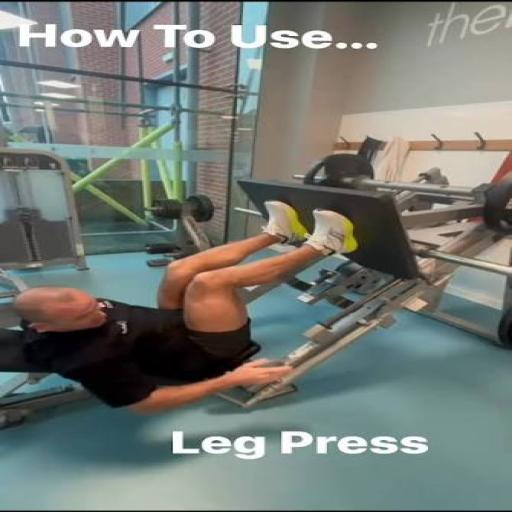Leg Press: (50, 137, 496, 412)
